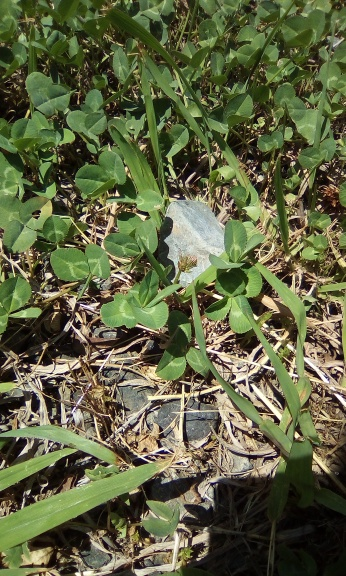4leaf: (203, 264, 263, 335)
